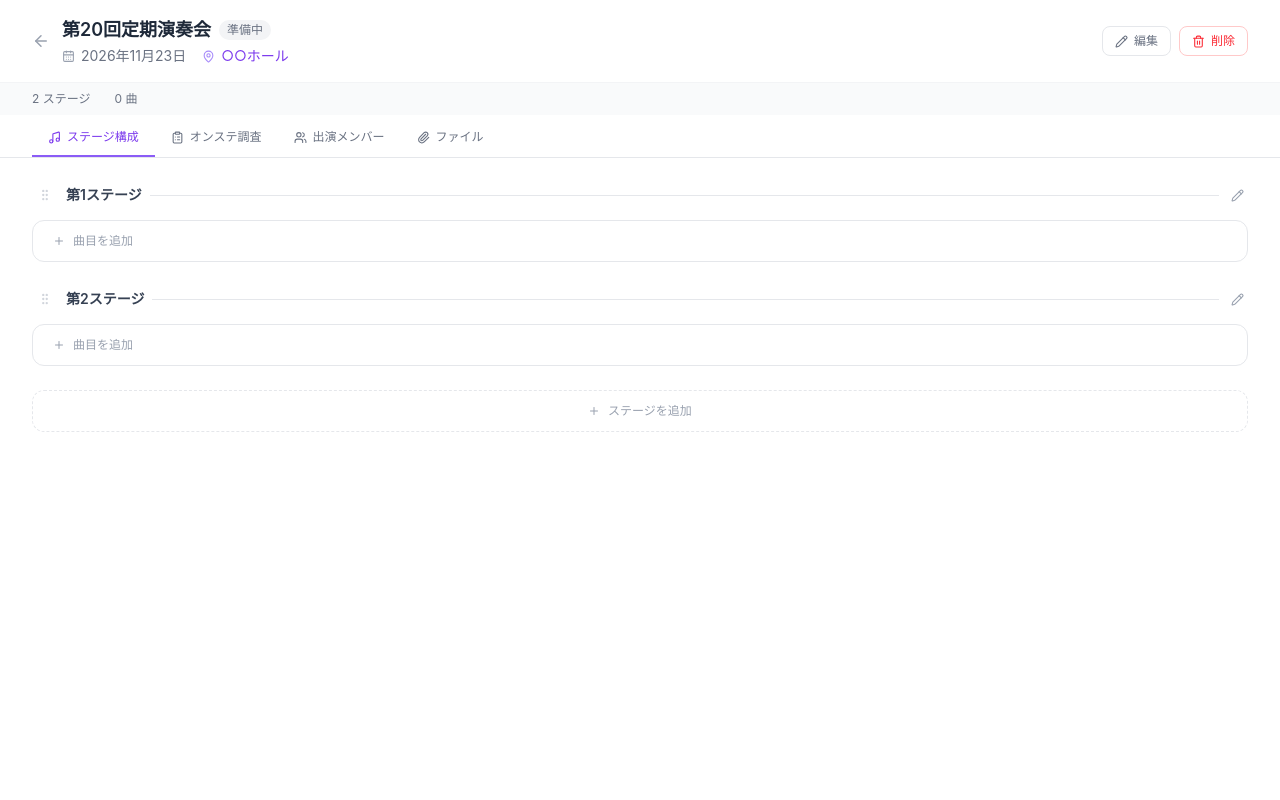
Scenario: ConcertDetailPage（編集・削除ボタンの権限） › 編集ボタンクリックで編集モーダルを開く
Click the button "編集": (1136, 41) [1102,26,1171,56]
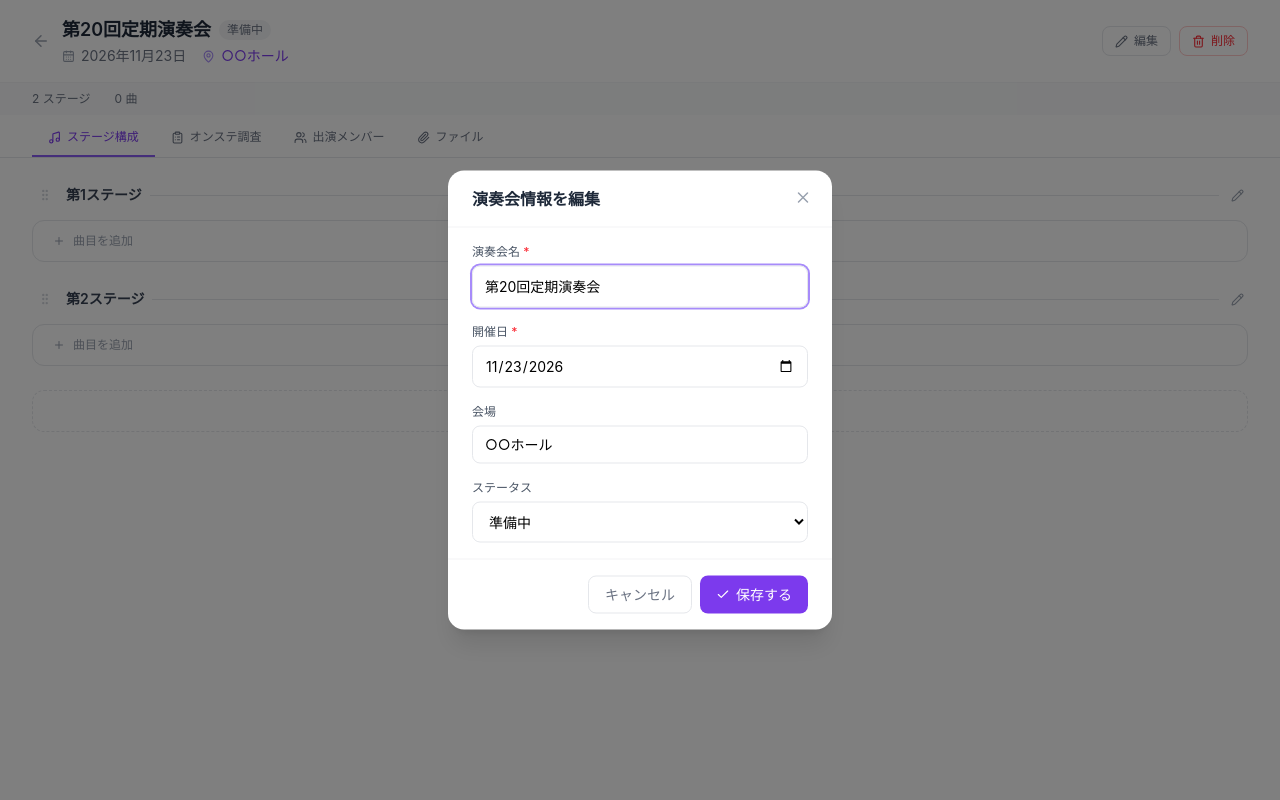
expect the heading "演奏会情報を編集" is shown: met, box [472,188,600,208]
